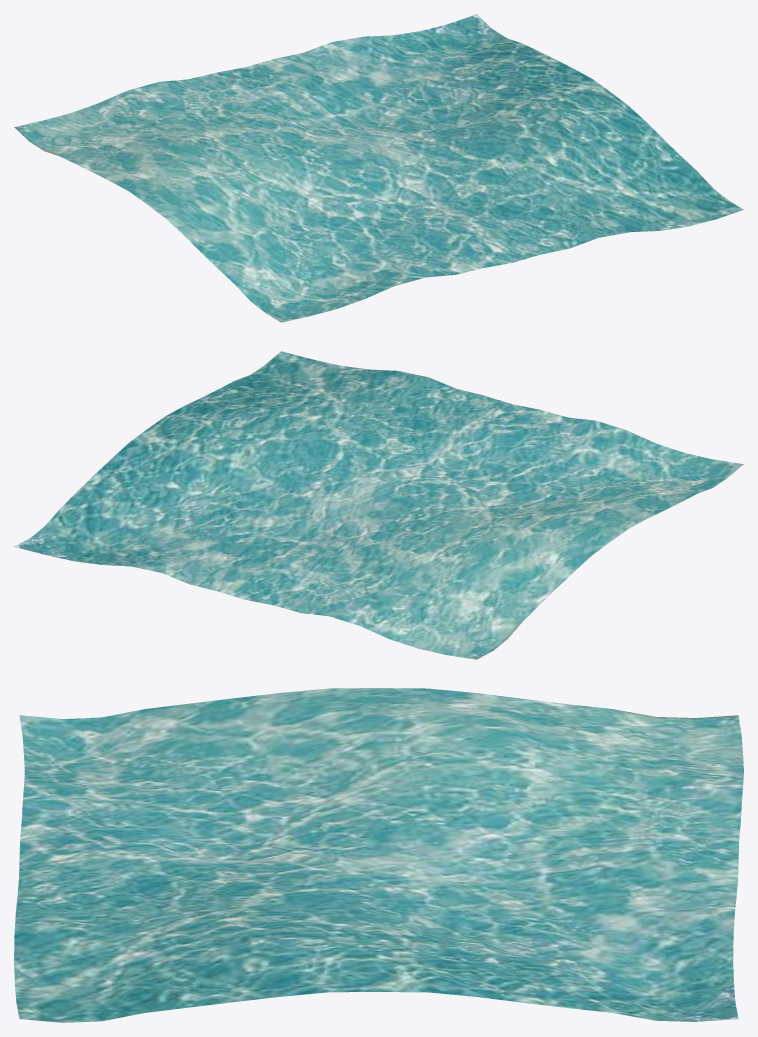
The model's file is water_000021.obj.
3 views of the same model, one above another, from view 1: azimuth 30°, elevation 25°; view 2: azimuth 150°, elevation 25°; view 3: azimuth 270°, elevation 25° (orthographic). The views are drawn at different scales.
Parts seen in each view (by area): view 1: Plan.003_Plan.001; view 2: Plan.003_Plan.001; view 3: Plan.003_Plan.001.
Part boxes in pixels (bbox=[...]): Plan.003_Plan.001: bbox=[14, 14, 743, 322]; Plan.003_Plan.001: bbox=[14, 351, 743, 659]; Plan.003_Plan.001: bbox=[14, 688, 743, 1022].
Bounding box in the file's own units: 60537 × 3974 × 61246.
1 material, 1 textured.
